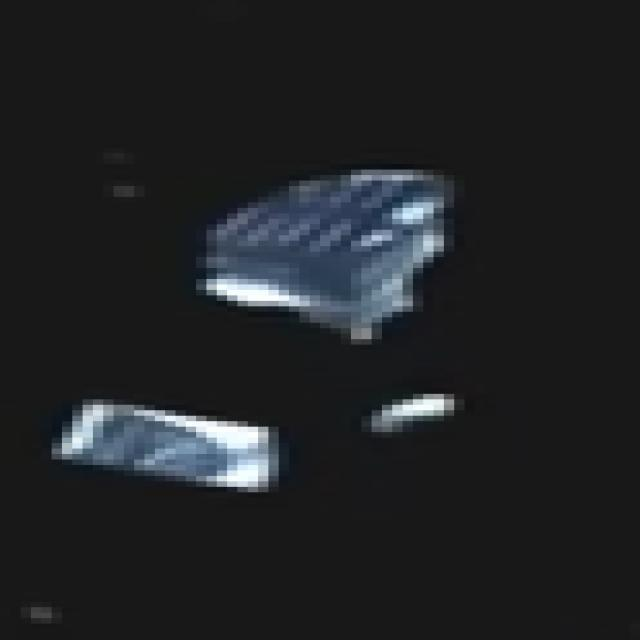large_debris: (51, 134, 521, 552)
